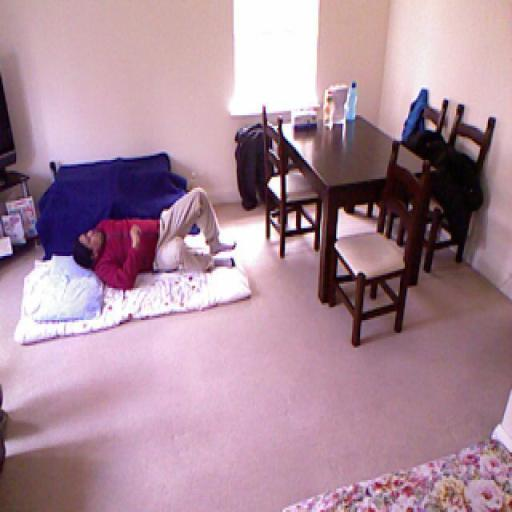Fall: (72, 188, 237, 290)
